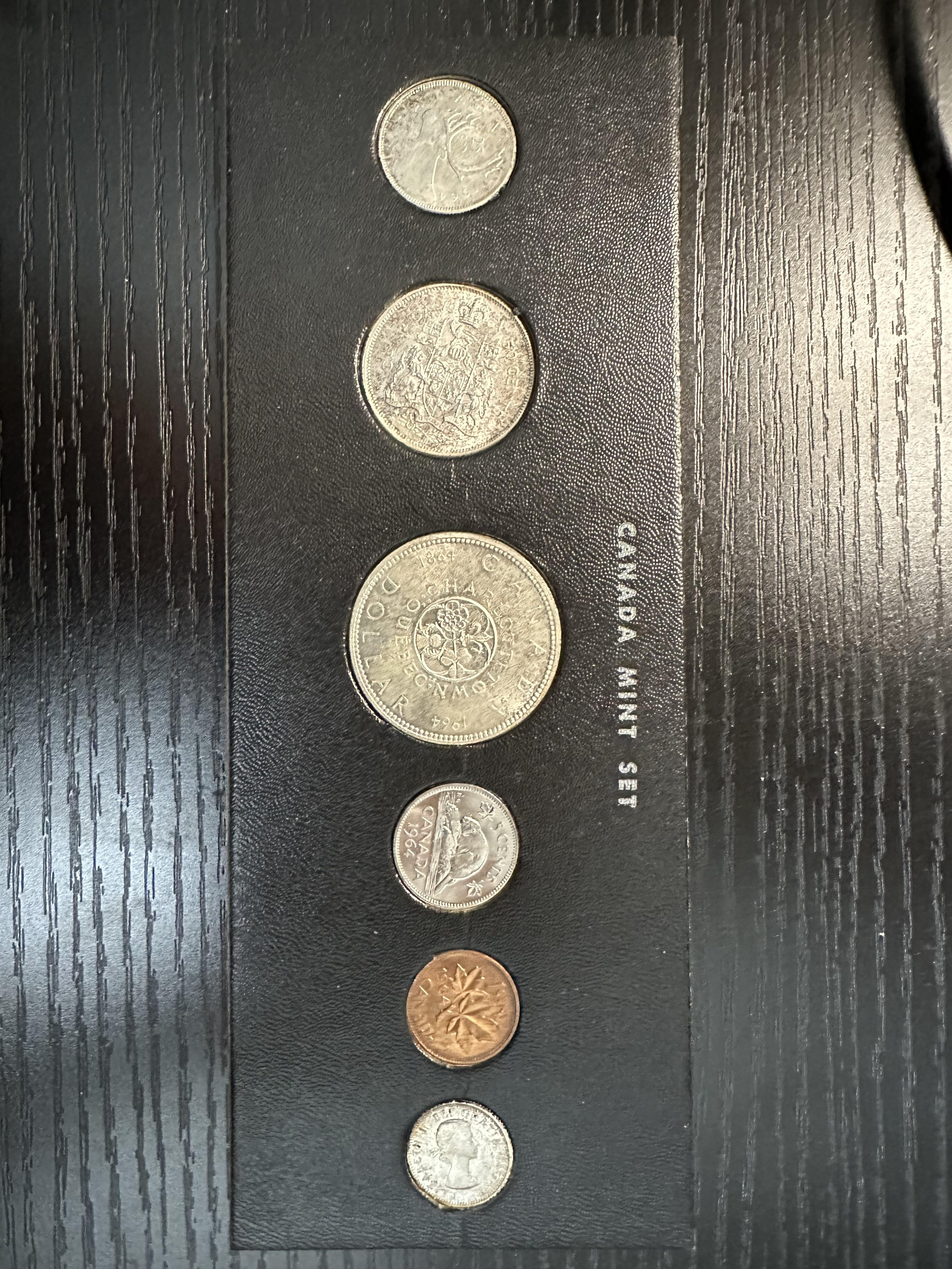coin: (348, 532, 560, 745), (360, 282, 535, 457), (377, 78, 516, 214), (393, 783, 518, 911), (406, 950, 519, 1068), (406, 1102, 513, 1210)
